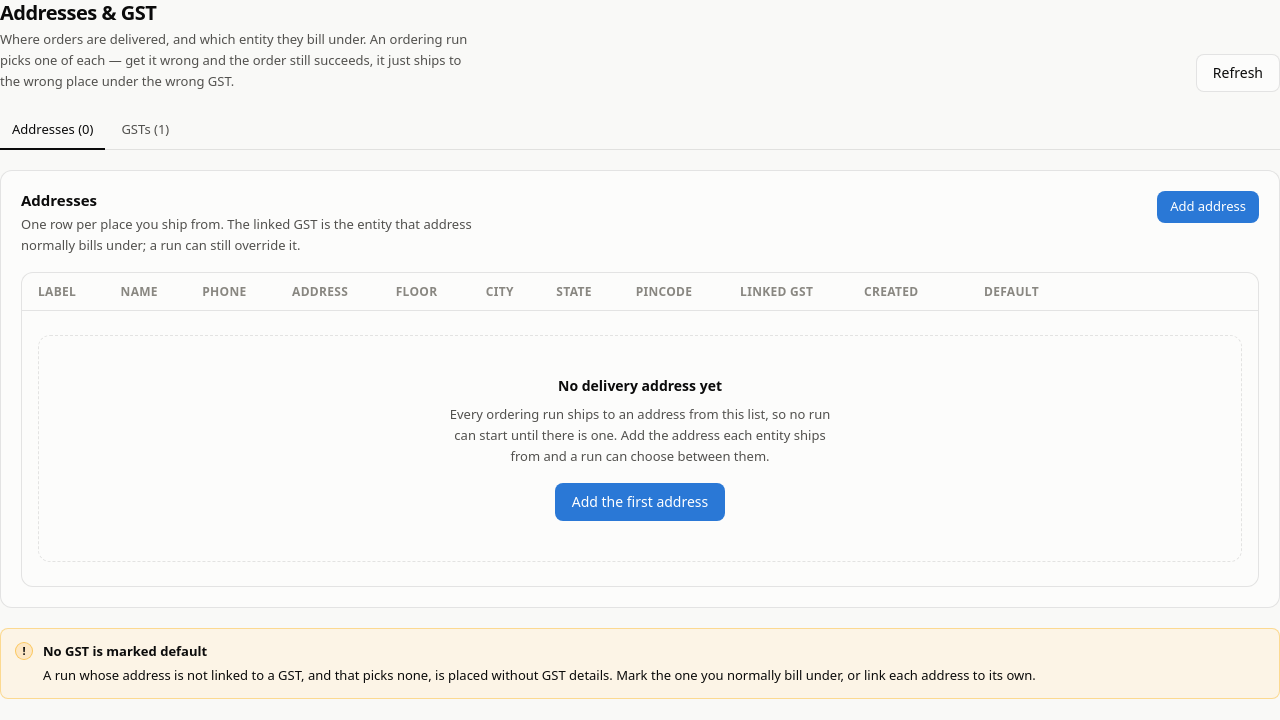
Address Book: the note after deleting a GST › says only that it is gone when nothing was linked by then
Click the tab "GSTs (1)" at (145, 131), box [109,112,181,150]
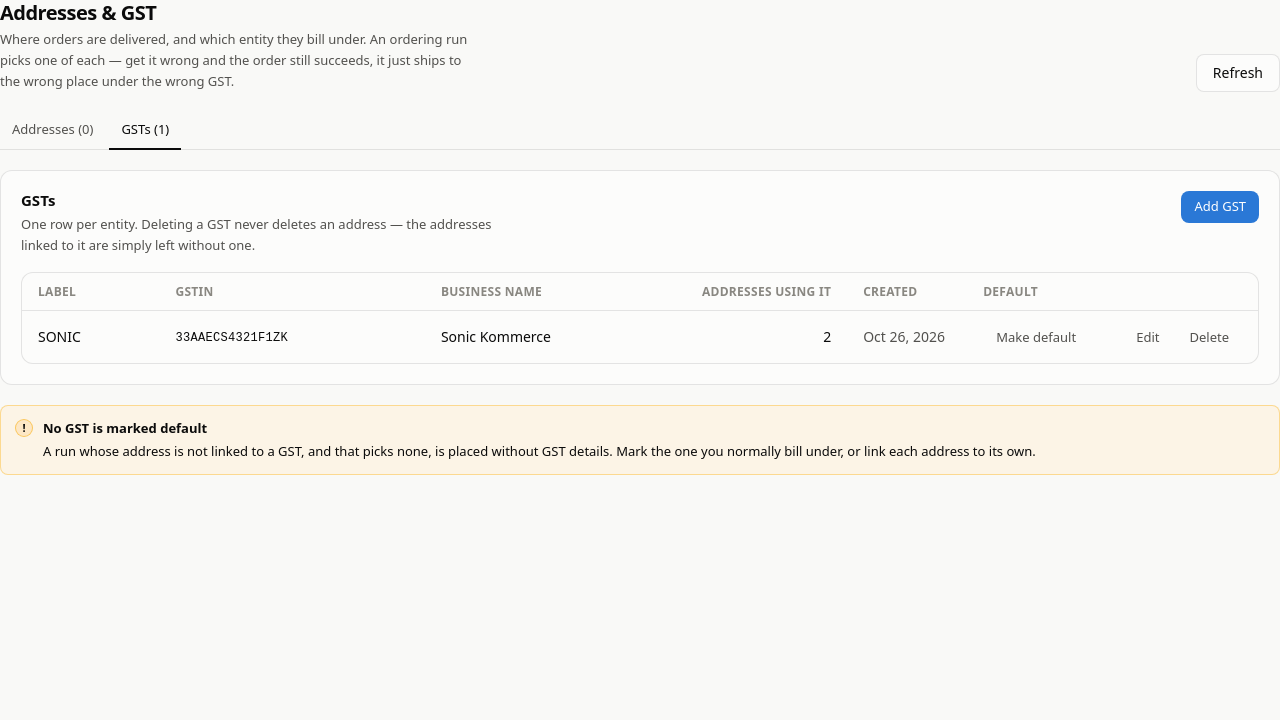
Click the button "Delete" at (1209, 337), box [1176,321,1242,353]
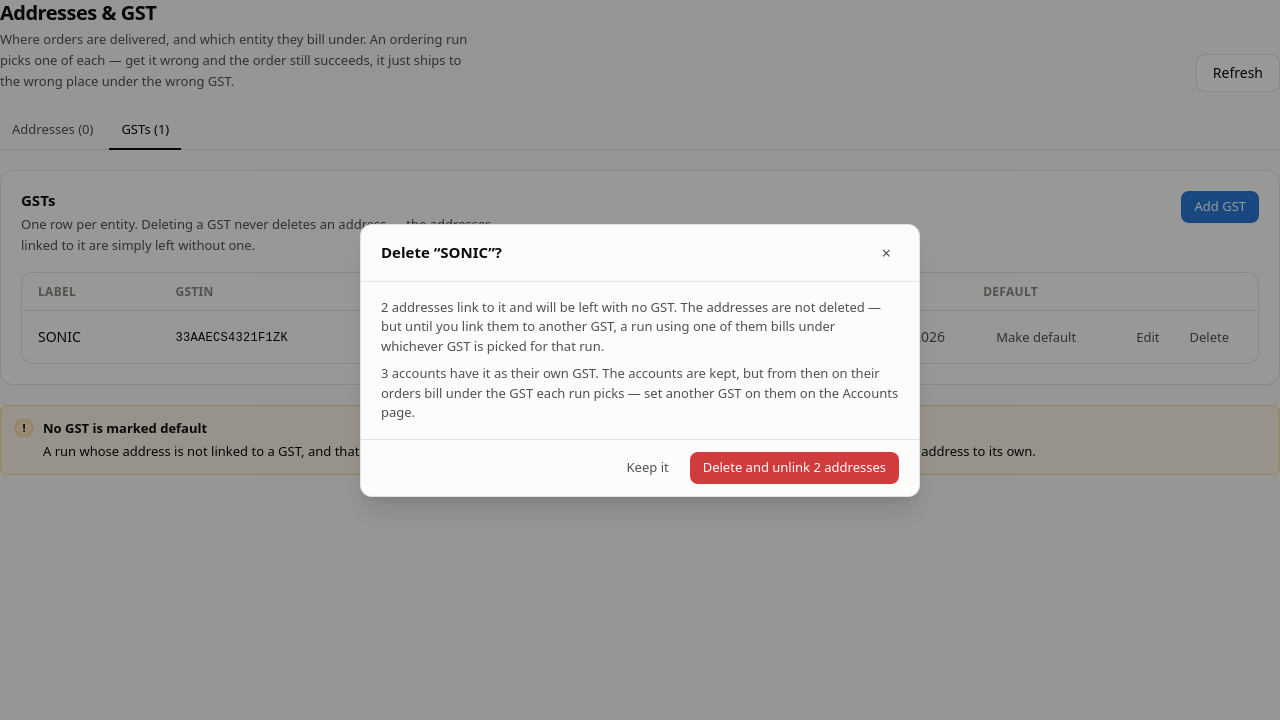
Click the button "Delete and unlink 2 addresses" at (794, 468), box [690,452,899,484]
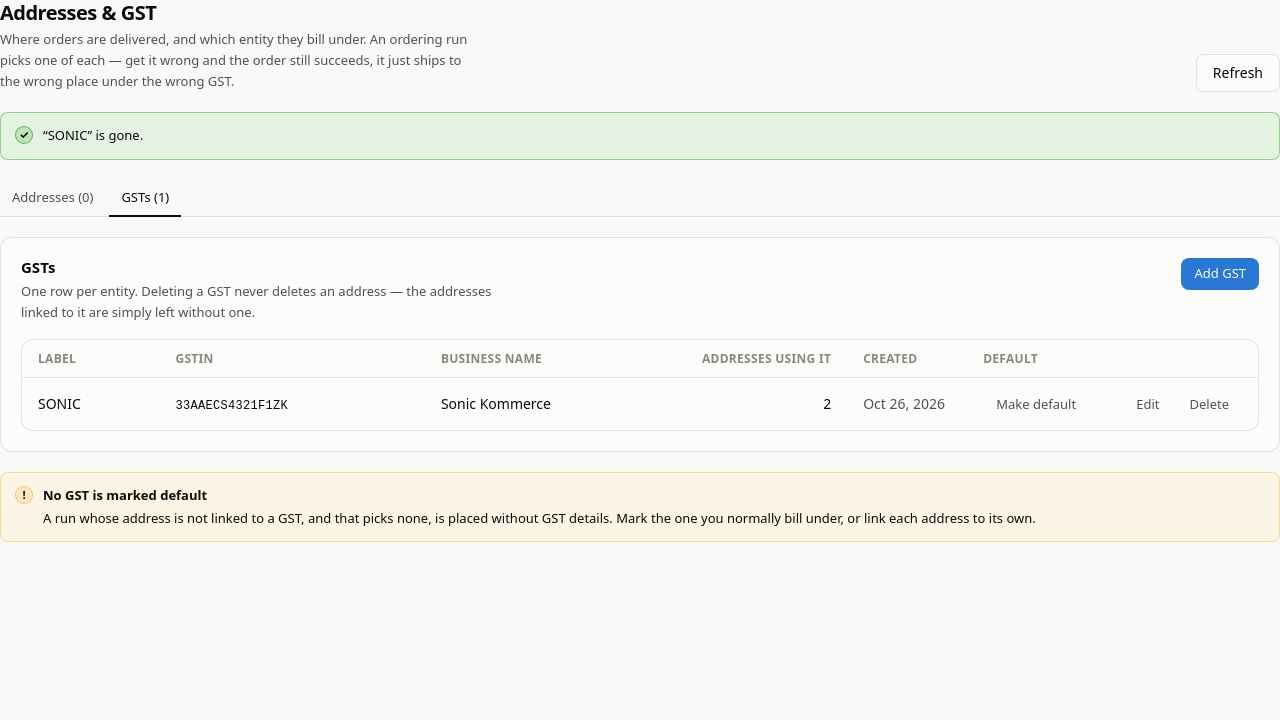
Result: the text "“SONIC” is gone." is shown at [43,125,143,146]
